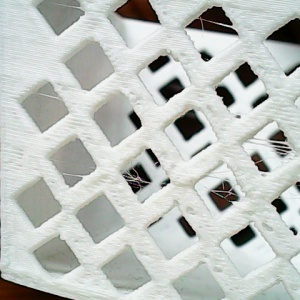3dpstringing: (240, 134, 298, 173), (123, 162, 167, 202), (202, 170, 236, 207), (196, 20, 242, 43), (62, 165, 96, 186), (31, 91, 68, 103), (44, 4, 92, 13), (276, 189, 299, 203)
3dpunderextrusion: (171, 198, 212, 232), (242, 209, 282, 239), (198, 250, 228, 283)
